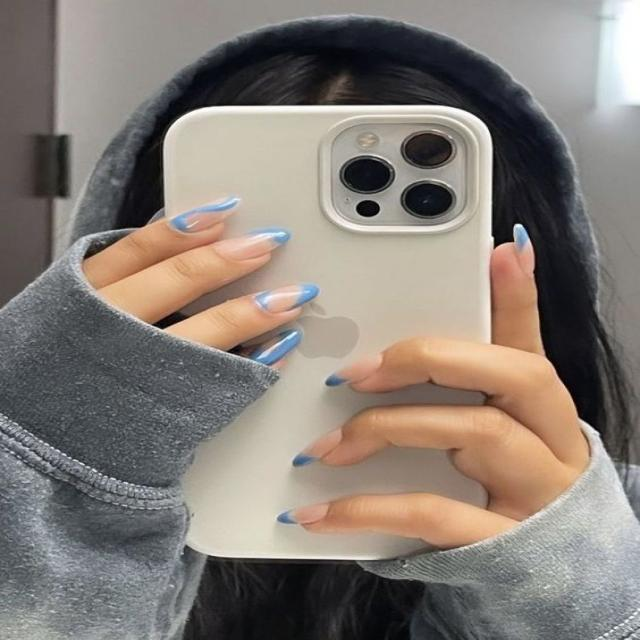Smartphone: (142, 100, 513, 572)
